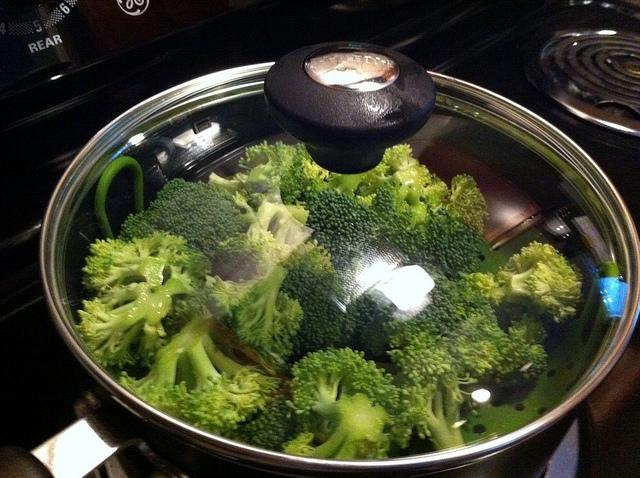broccoli: (76, 233, 214, 371), (118, 324, 284, 436), (280, 344, 432, 460), (370, 166, 490, 282), (333, 266, 463, 362), (116, 178, 252, 262), (388, 334, 479, 450), (204, 265, 304, 370), (418, 270, 512, 378), (276, 240, 346, 365), (495, 241, 585, 324), (305, 187, 394, 270), (222, 381, 298, 452), (250, 205, 314, 280), (234, 140, 306, 205), (209, 232, 265, 284), (304, 172, 362, 212), (508, 314, 552, 359), (294, 142, 329, 190), (382, 143, 419, 170)
